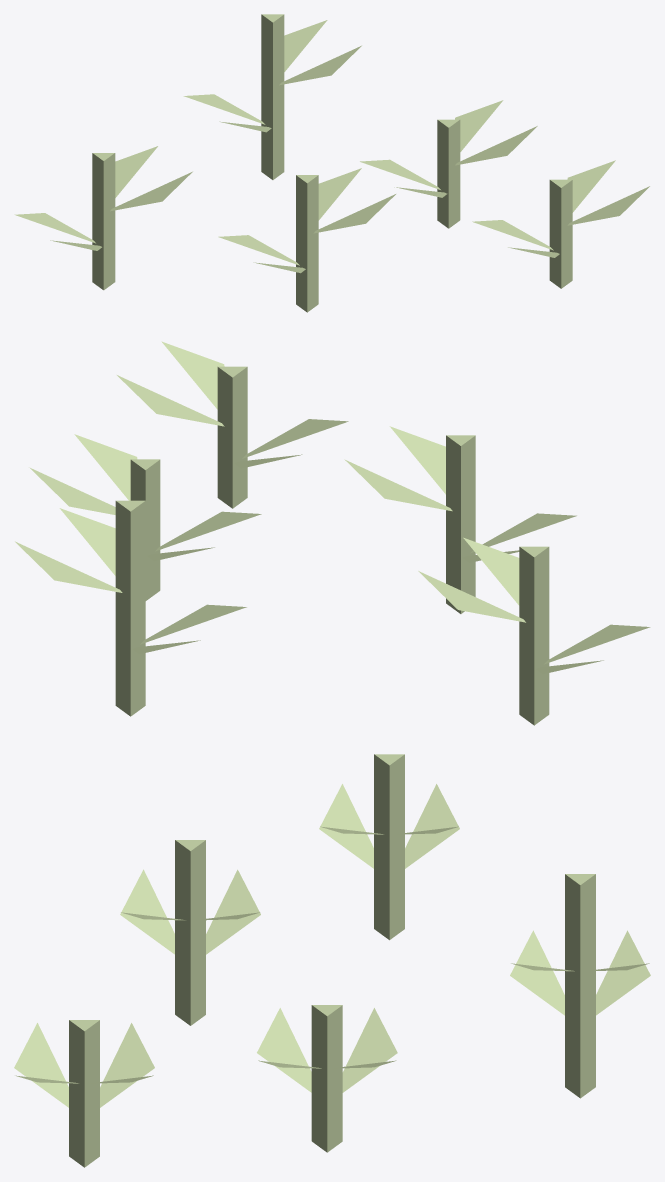
The model's file is crop-seedling.glb.
3 renders of one model, top to bottom at view 1: azimuth 30°, elevation 25°; view 2: azimuth 150°, elevation 25°; view 3: azimuth 270°, elevation 25°, orthographic. The views are drawn at different scales.
Visible parts, largest first — view 1: crop-seedling; view 2: crop-seedling; view 3: crop-seedling.
Boxes of the visible parts, x1,y1,x2,y2 form: crop-seedling: [14, 14, 649, 312]; crop-seedling: [15, 341, 650, 725]; crop-seedling: [14, 754, 650, 1167].
Size of the model in its own units: 0.8119 by 0.25 by 0.6769.
